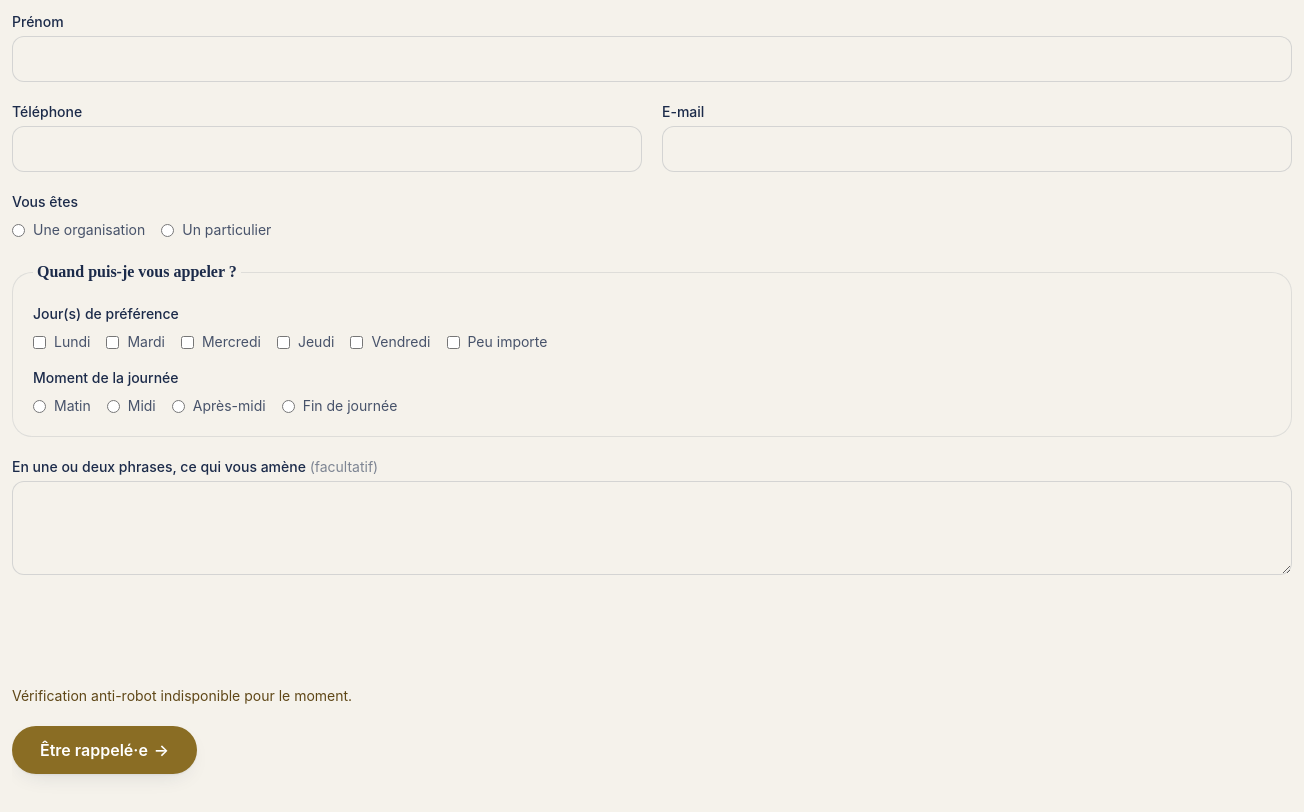
ContactForm › signale un e-mail malformé sur le champ concerné
Type "Camille" into the field with id "cf-firstName" at (652, 59), box [12,36,1292,82]
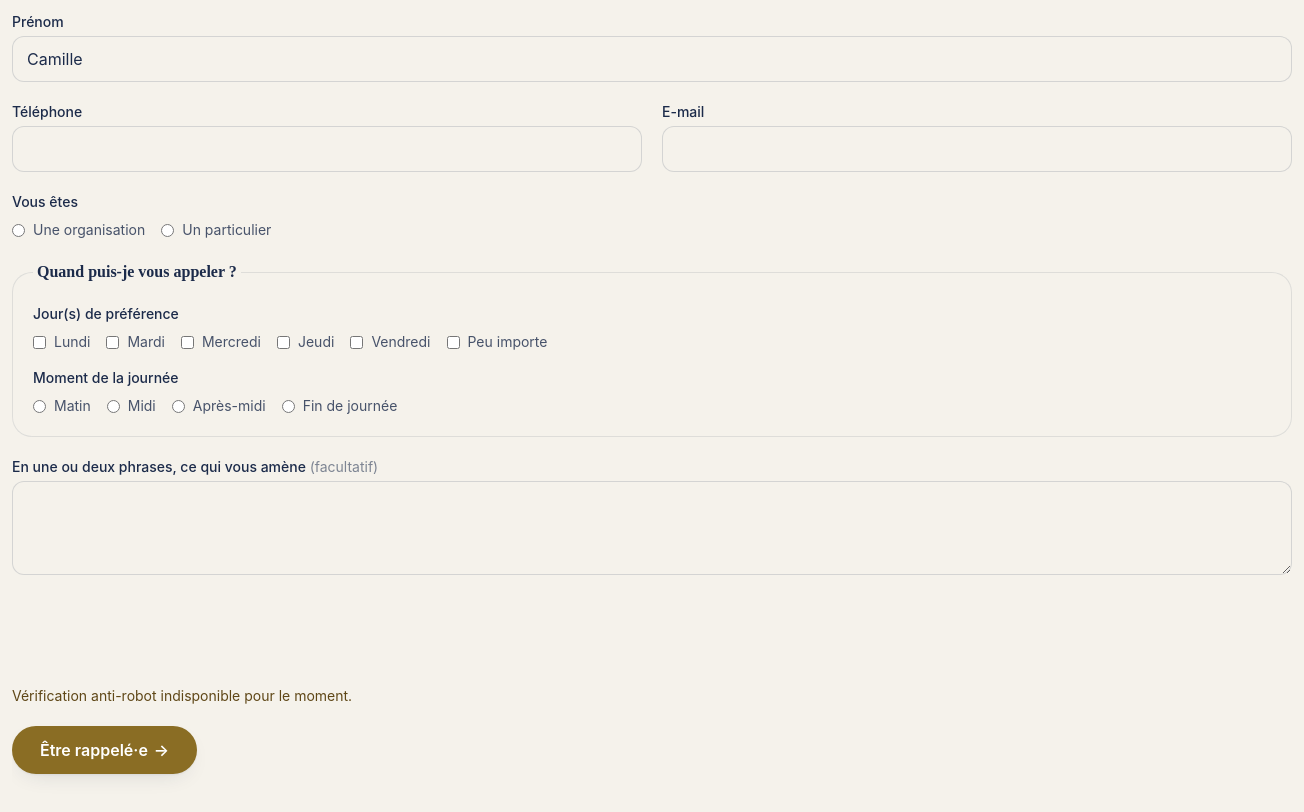
Type "06 12 34 56 78" into the field with id "cf-phone" at (327, 149), box [12,126,642,172]
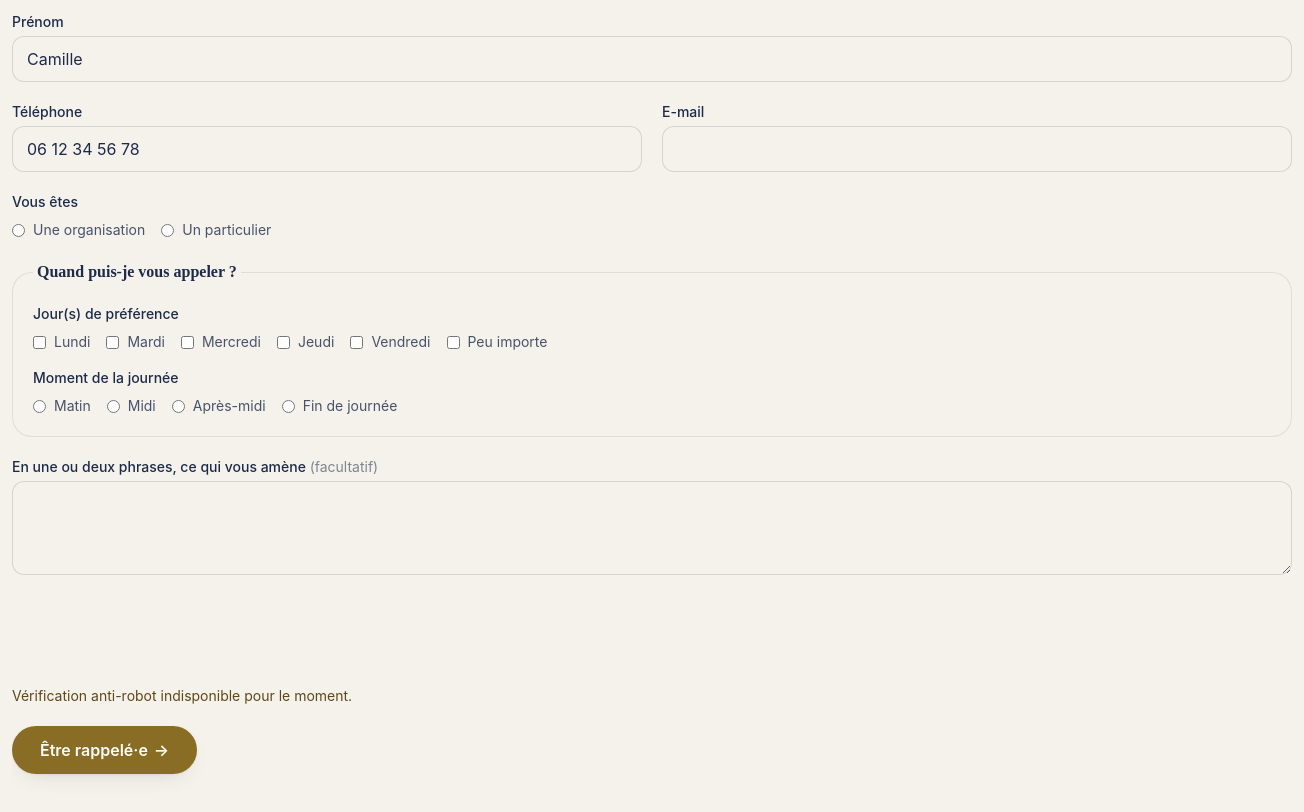
Type "pas-un-email" into the field with id "cf-email" at (977, 149), box [662,126,1292,172]
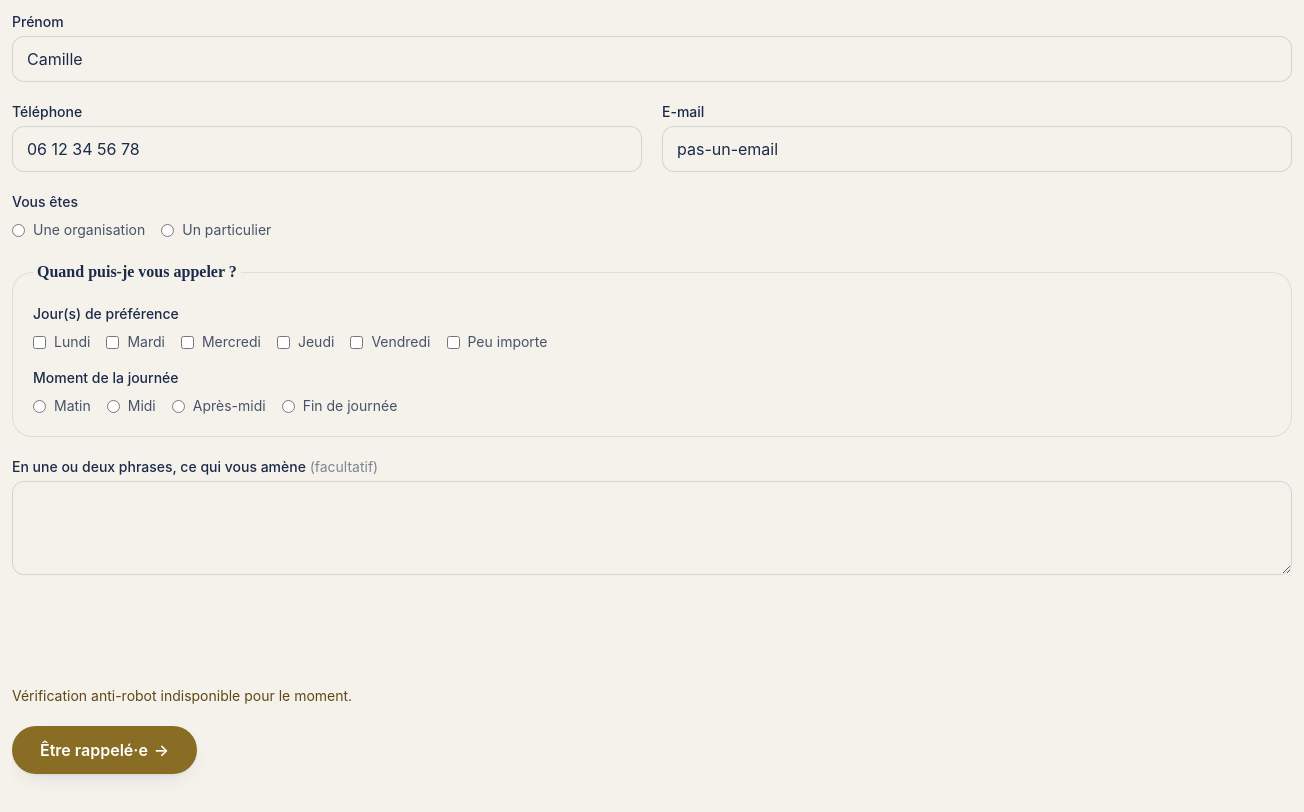
Submit the form
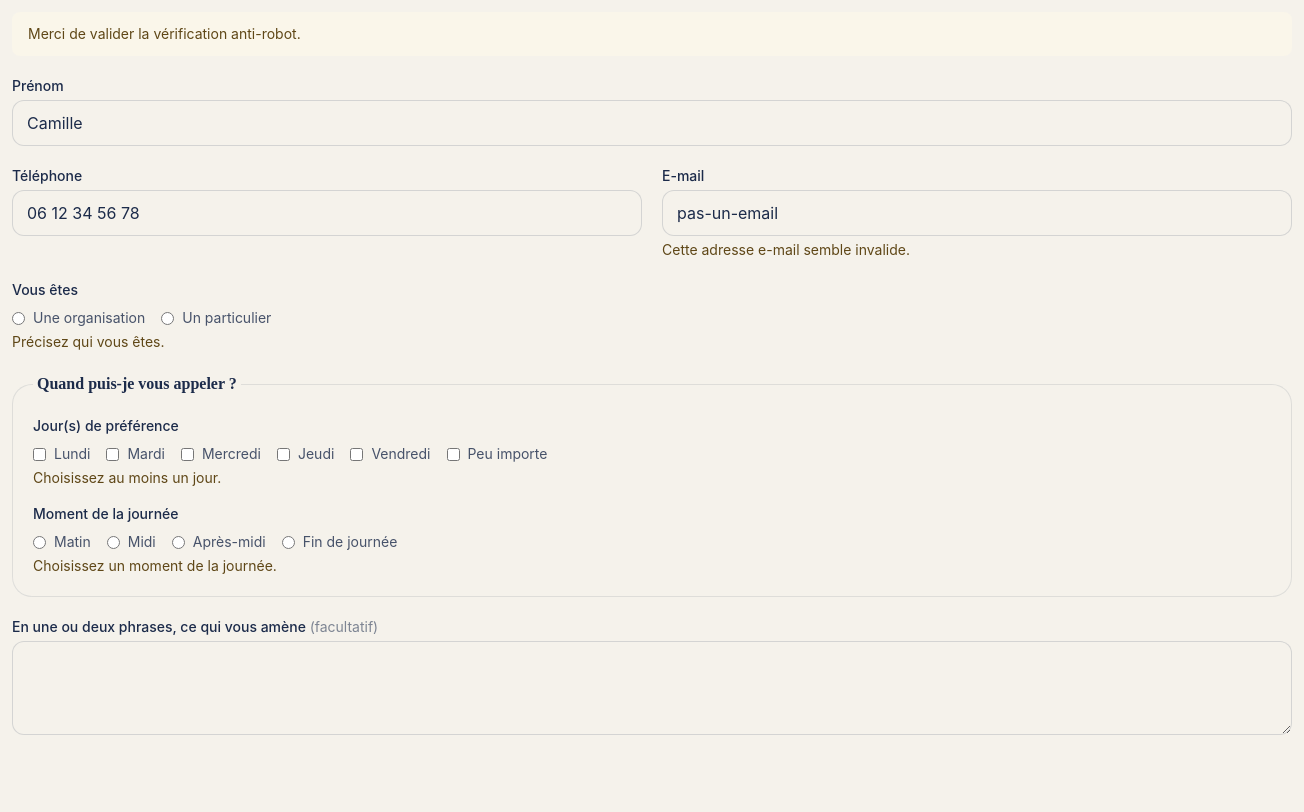
Now the message "Cette adresse e-mail semble invalide." is shown, box [662,241,910,258]
